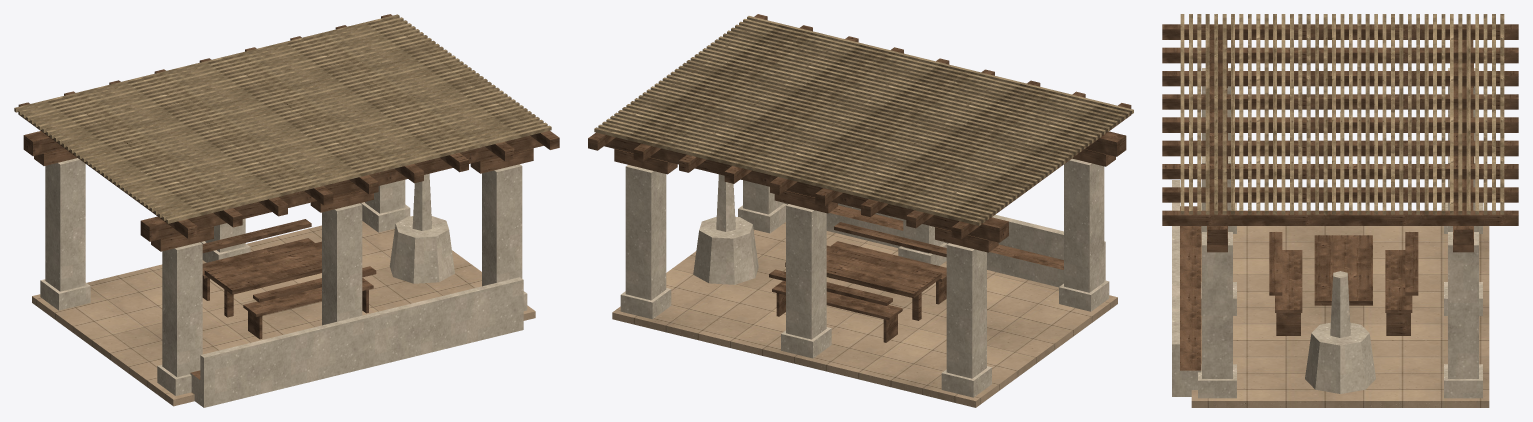
The model's file is desert_ramada.fbx.
3 renders of one model, left to right at view 1: azimuth 30°, elevation 25°; view 2: azimuth 150°, elevation 25°; view 3: azimuth 270°, elevation 25°, orthographic. The views are drawn at different scales.
Parts seen in each view (by area): view 1: desert_ramada_LOD0; view 2: desert_ramada_LOD0; view 3: desert_ramada_LOD0.
Boxes of the visible parts, bbox=[...] form: desert_ramada_LOD0: bbox=[14, 14, 559, 407]; desert_ramada_LOD0: bbox=[588, 14, 1133, 407]; desert_ramada_LOD0: bbox=[1162, 14, 1518, 407].
Size of what is drawn, in the model's own units: 7.4 by 3.45 by 5.5.
1 material, 1 textured.
